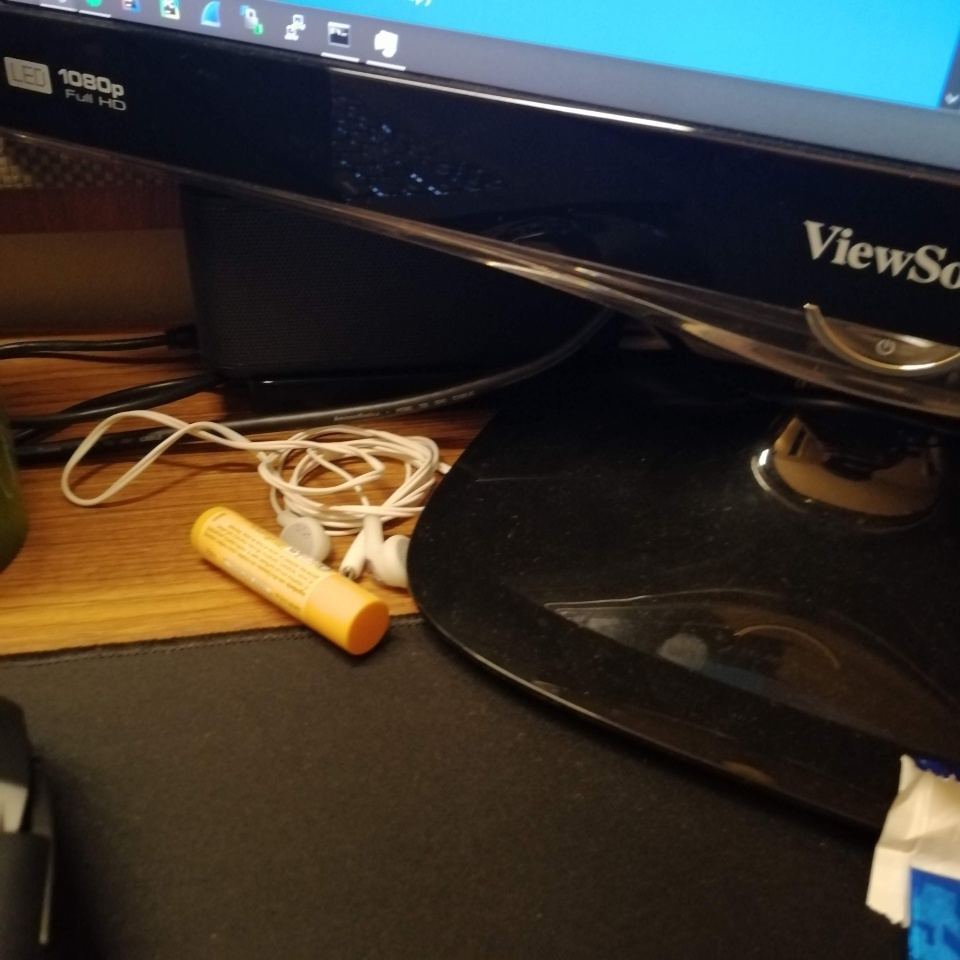chapstick: (187, 503, 391, 662)
